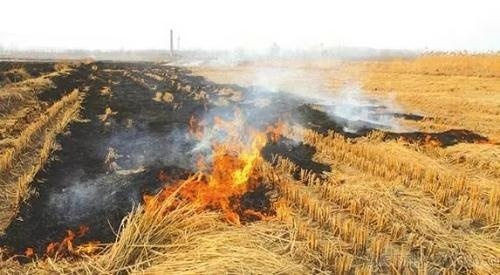fire: (145, 106, 293, 224), (36, 221, 96, 257), (391, 116, 455, 147)
